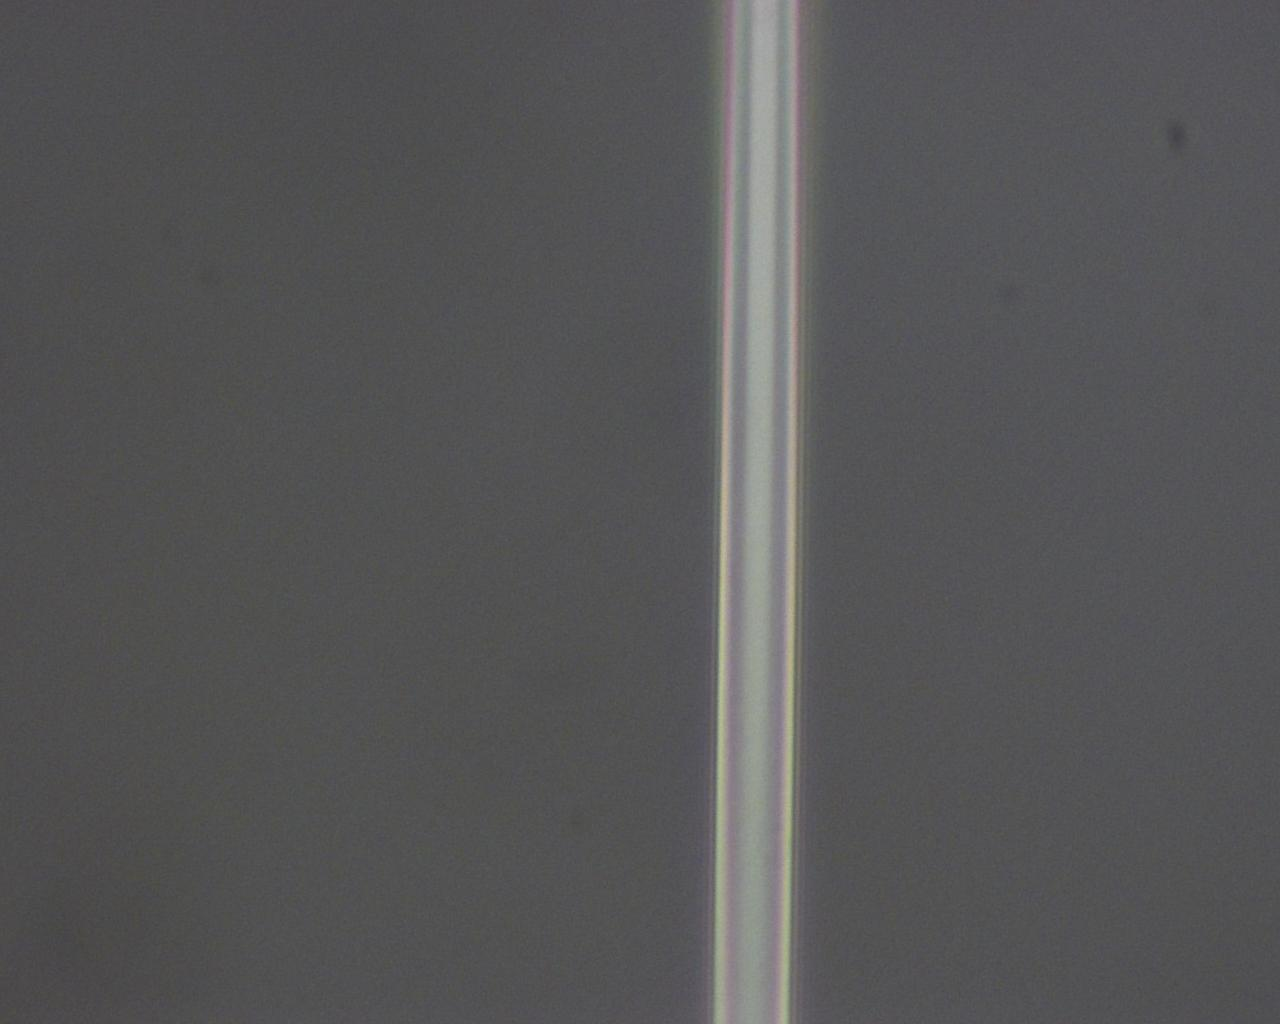fiber: (253, 0, 591, 634), (614, 86, 1280, 315), (0, 798, 614, 887), (614, 759, 1280, 776)
